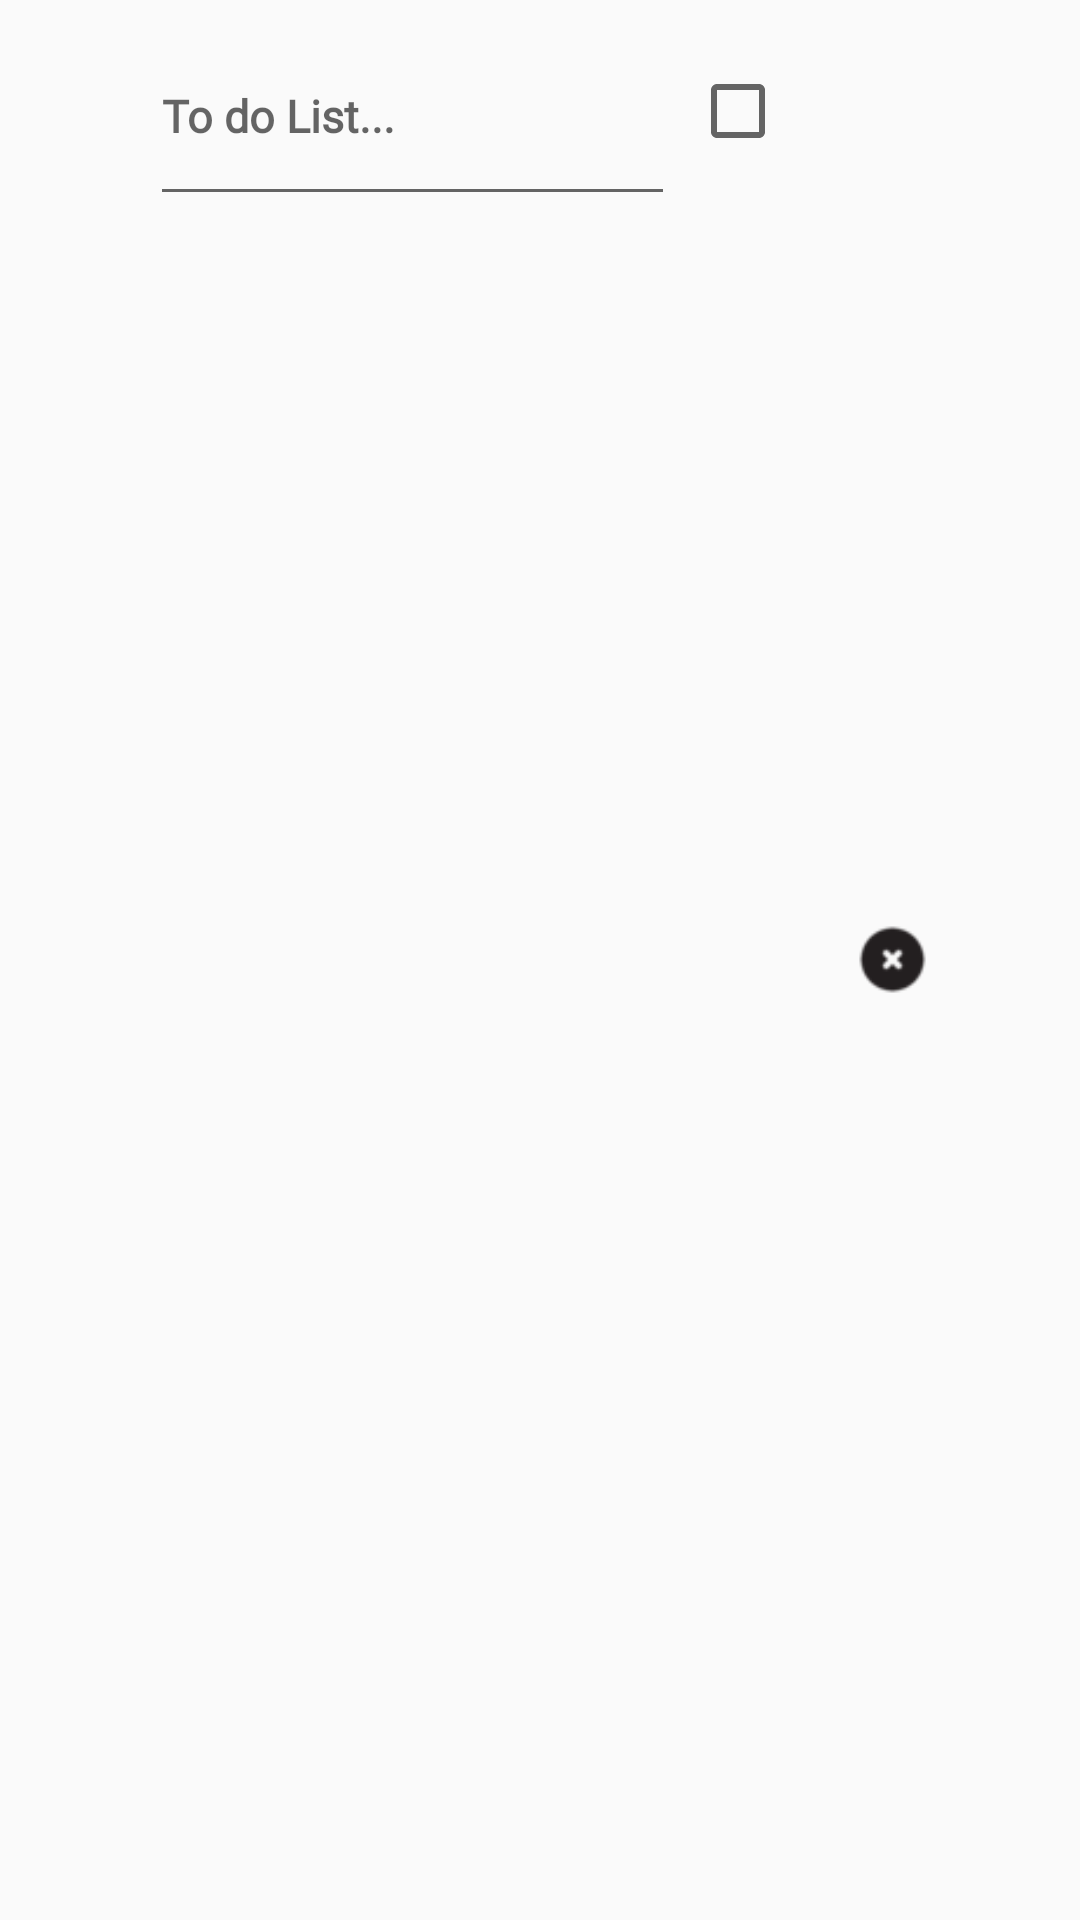

Where to tap for icons on this 1080 x 1920 app screen, as (x,y):
close: (892,959)
